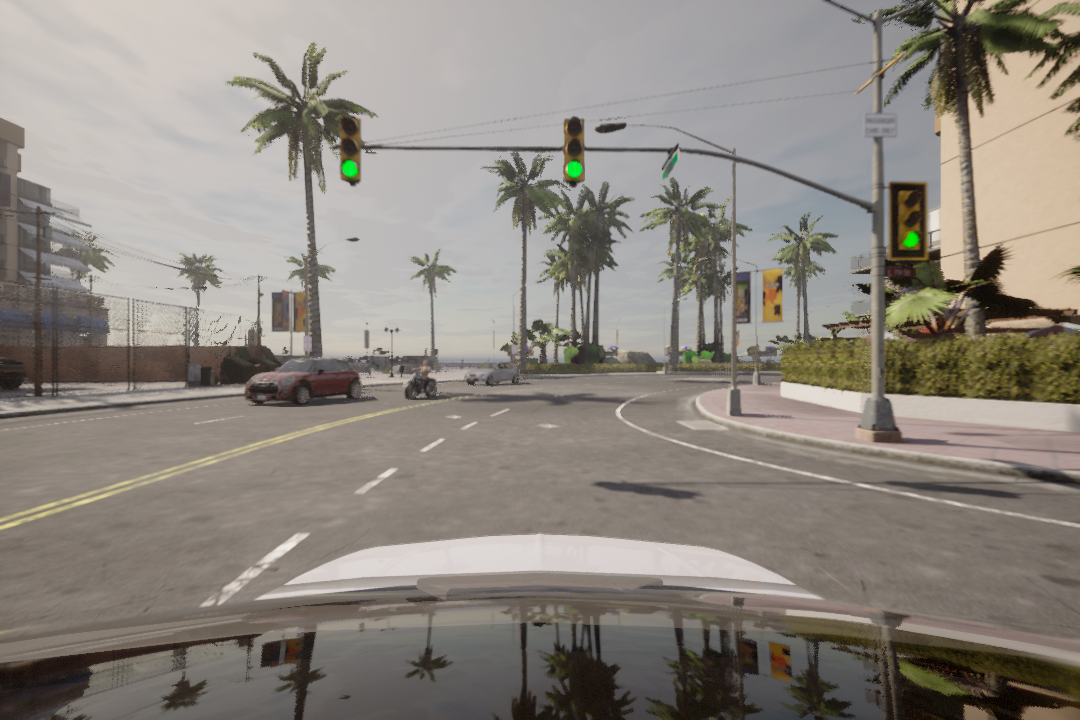TrafficLight: (892, 182, 927, 257), (559, 114, 585, 184), (337, 116, 364, 182)
